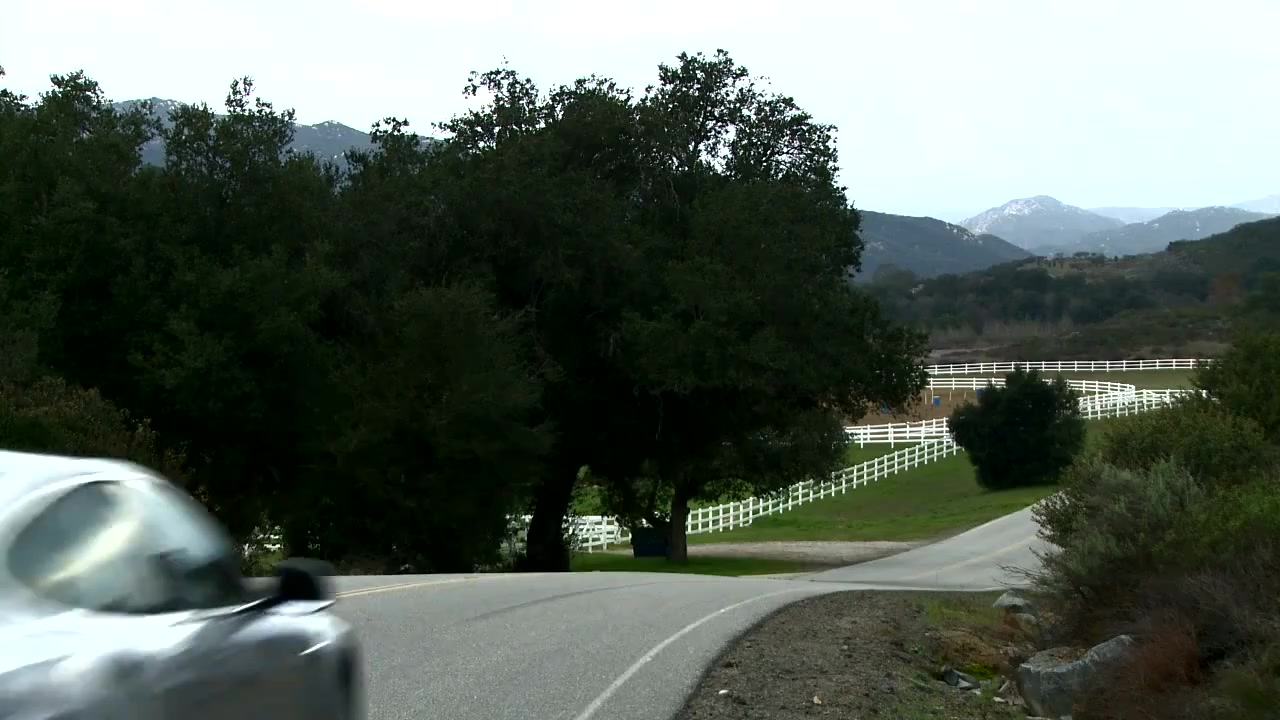car: (2, 444, 369, 720)
